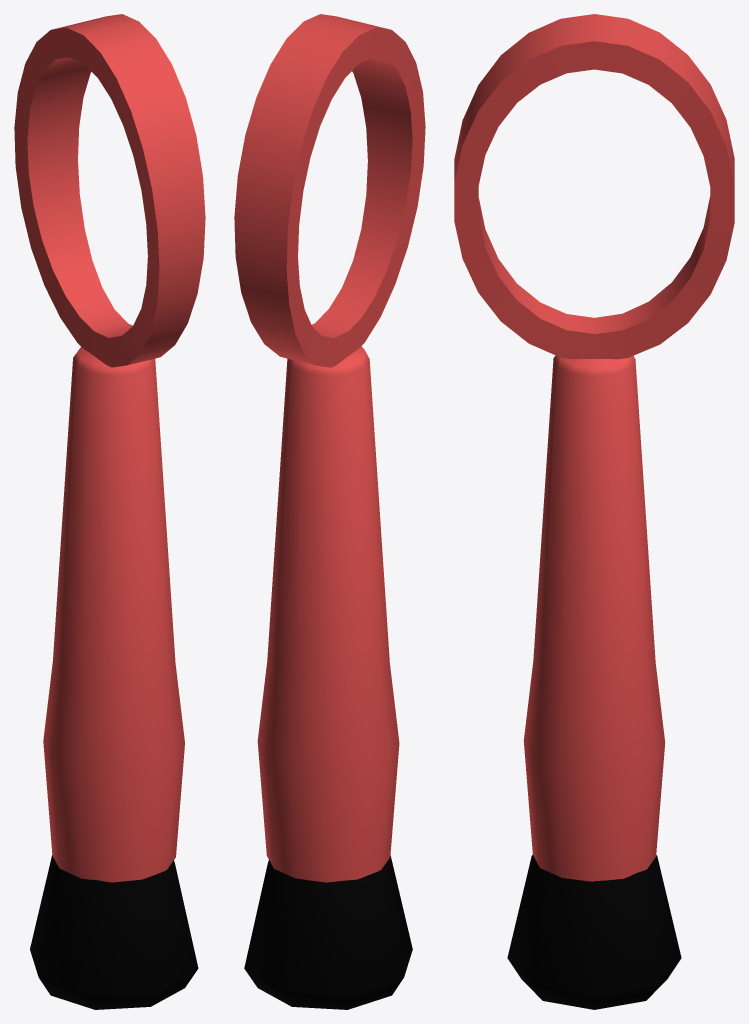
Rendered from Small_Brush.fbx.
3 renders of one model, left to right at view 1: azimuth 30°, elevation 25°; view 2: azimuth 150°, elevation 25°; view 3: azimuth 270°, elevation 25°, orthographic.
Parts seen in each view (by area): view 1: Lipstick1, Lipstick; view 2: Lipstick1, Lipstick; view 3: Lipstick1, Lipstick.
Boxes of the visible parts, x1,y1,x2,y2 form: Lipstick1: [30, 347, 198, 1009]; Lipstick: [14, 14, 205, 367]; Lipstick1: [244, 346, 412, 1009]; Lipstick: [234, 14, 425, 367]; Lipstick1: [507, 355, 681, 1009]; Lipstick: [454, 14, 734, 359].
Bounding box in the file's own units: 8.54 × 51.39 × 13.74.
